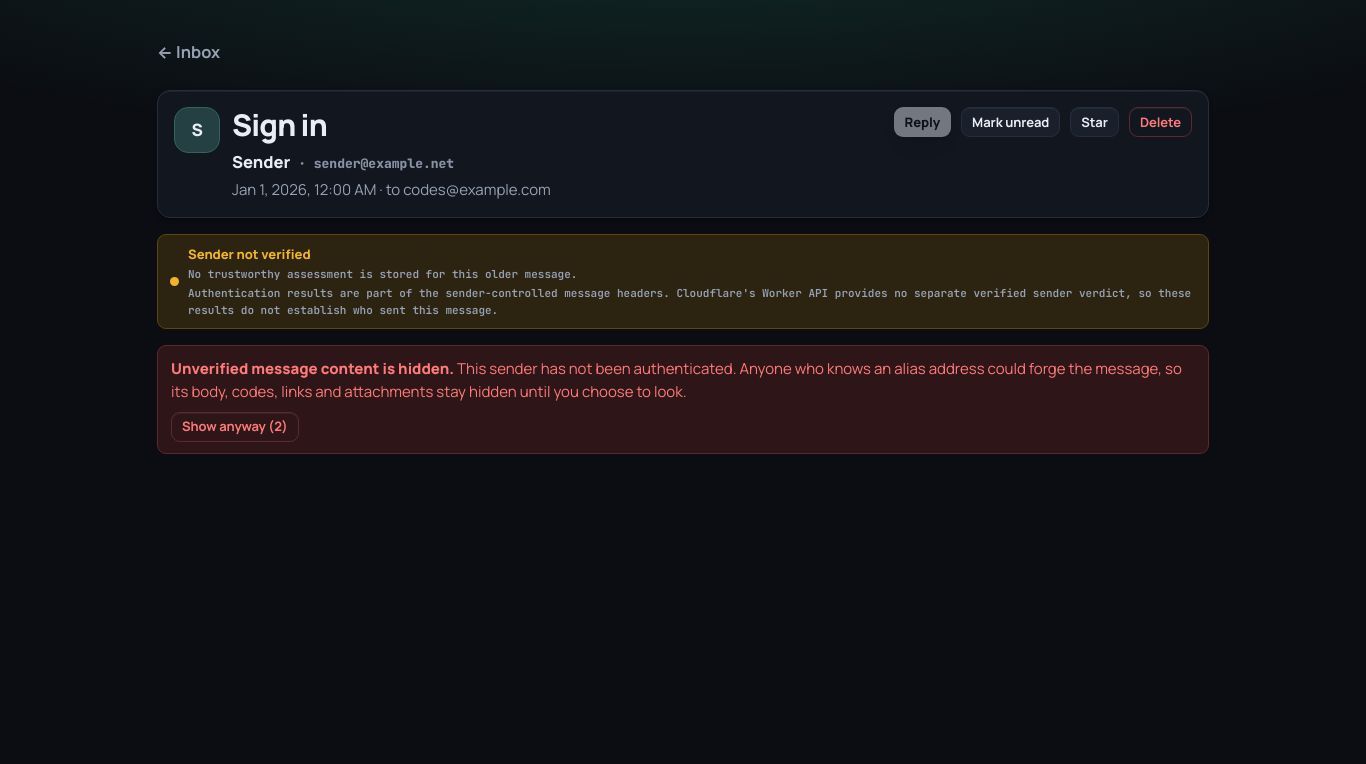
Scenario: MessageDetail sender-auth content gating › does not carry an explicit reveal over to another message
This screenshot has width=1366, height=764.
Click the button "Show anyway (2)". click: {"x": 235, "y": 427}
box: [171,412,299,442]
(page scrolled)
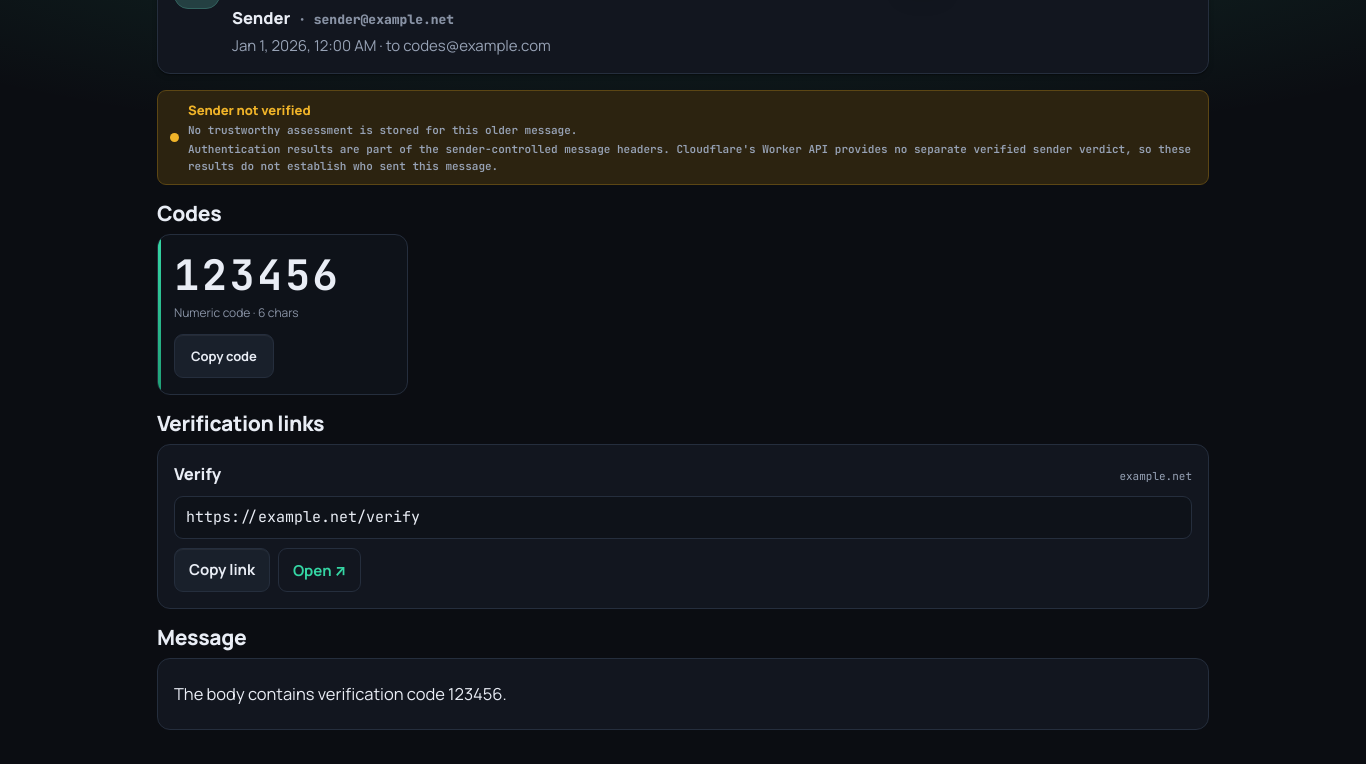
Now the text "The body contains verification code 123456." is shown, box [174,682,507,705]
